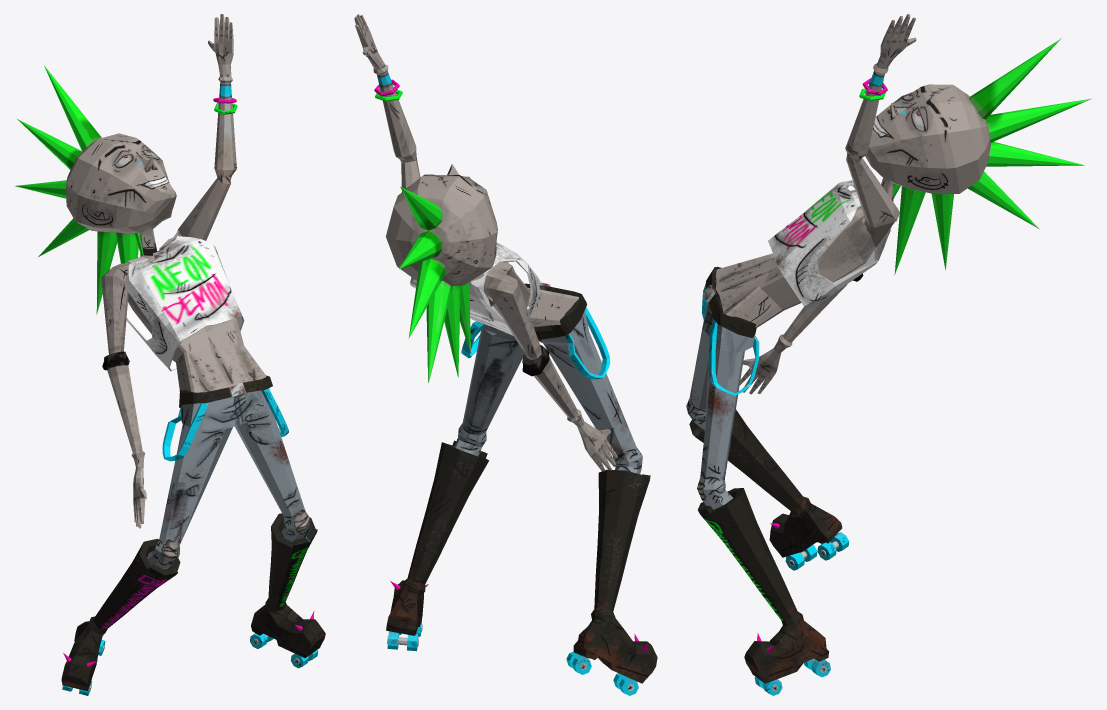
The model's file is punkAnimation_000104.obj.
3 renders of one model, left to right at view 1: azimuth 30°, elevation 25°; view 2: azimuth 150°, elevation 25°; view 3: azimuth 270°, elevation 25°, orthographic. The views are drawn at different scales.
Visible parts, largest first — view 1: Cube.004_Cube.003; view 2: Cube.004_Cube.003; view 3: Cube.004_Cube.003.
Boxes of the visible parts, x1=… form: Cube.004_Cube.003: x1=15, y1=14, x2=325, y2=695; Cube.004_Cube.003: x1=354, y1=14, x2=657, y2=695; Cube.004_Cube.003: x1=686, y1=14, x2=1091, y2=695.
Size of the model in its own units: 2.9 by 6.74 by 3.72.
